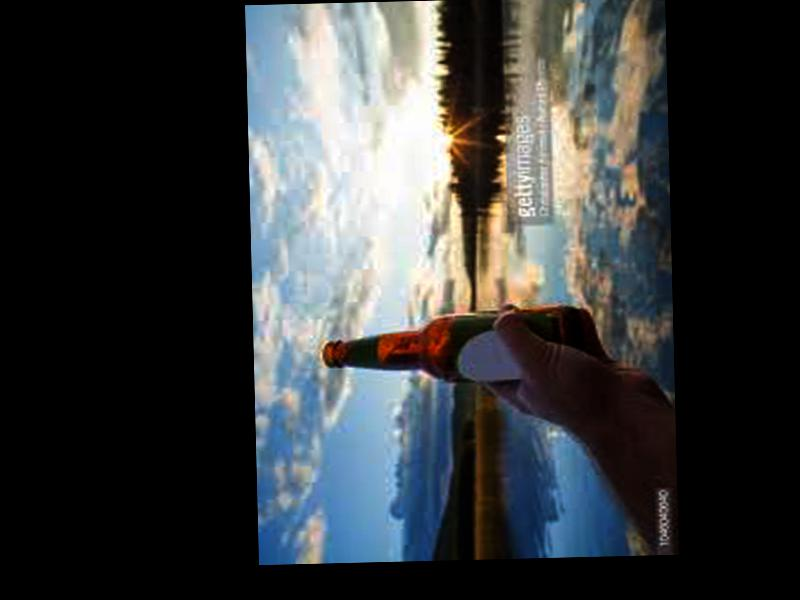Beer: (321, 304, 580, 387)
